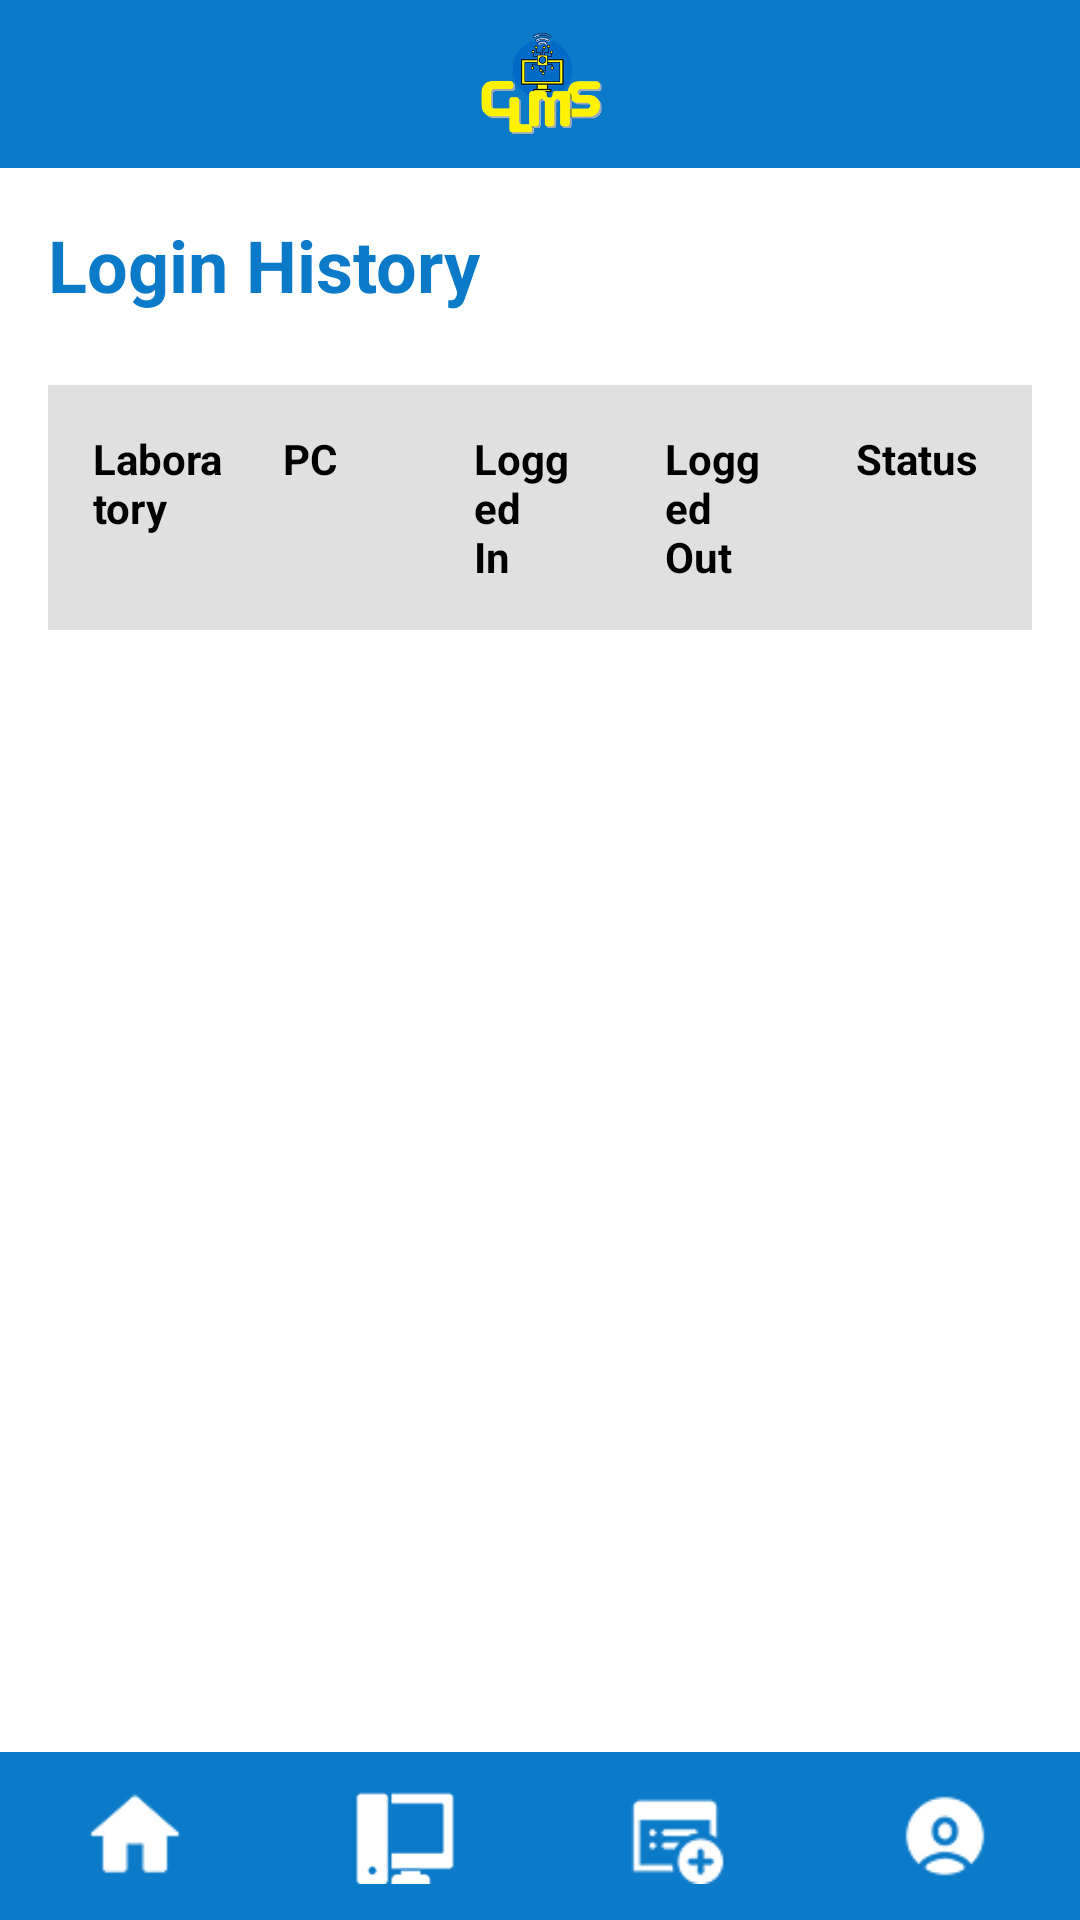

Icon bounding boxes for this 1080x1920 phone screenshot, format (x1, y1, x2, y2):
Home: (90, 1794, 180, 1873)
Issue: (632, 1799, 724, 1884)
Profile: (905, 1796, 985, 1876)
Return to PC: (356, 1792, 454, 1884)
